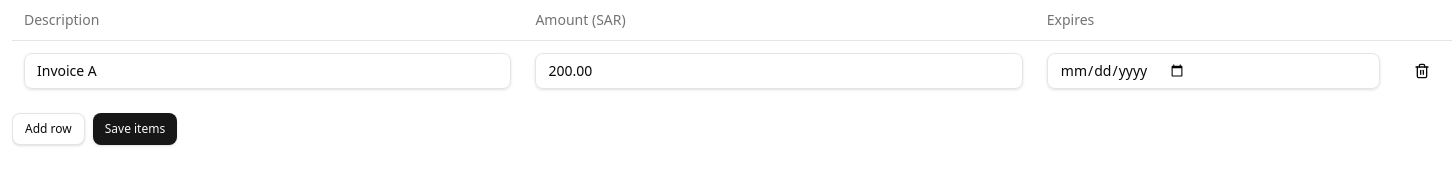
Test case: ItemsGrid › blocks save and shows a field error when amount is below the minimum
The width and height of the screenshot is (1452, 183).
Replace the text in the field named "amount-0" with "0.50" at (779, 70), box [535, 52, 1023, 88]
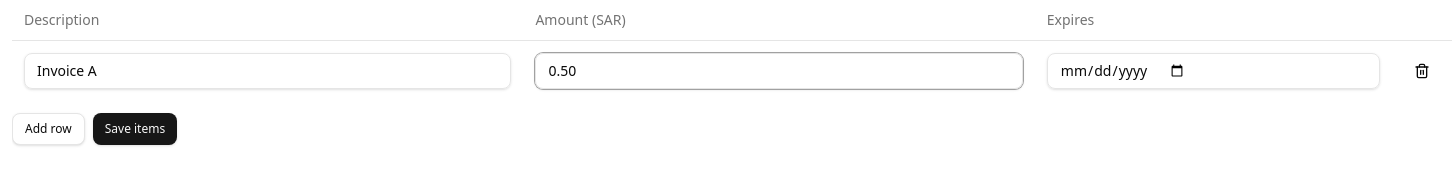
Click the button "Save items" at (135, 128), box [93, 112, 177, 144]
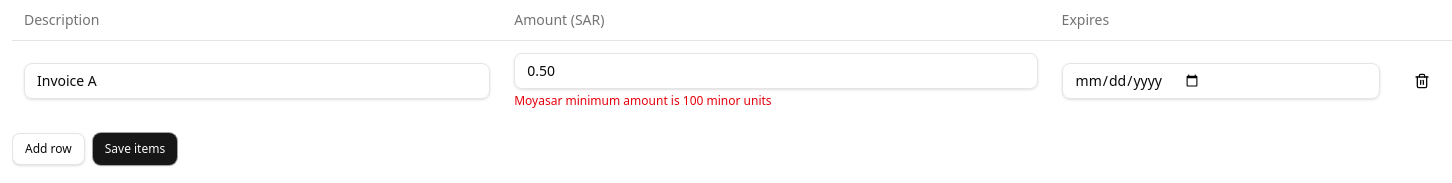
Expected: the text "Moyasar minimum amount is 100 minor units" is shown, [514, 92, 772, 108]
